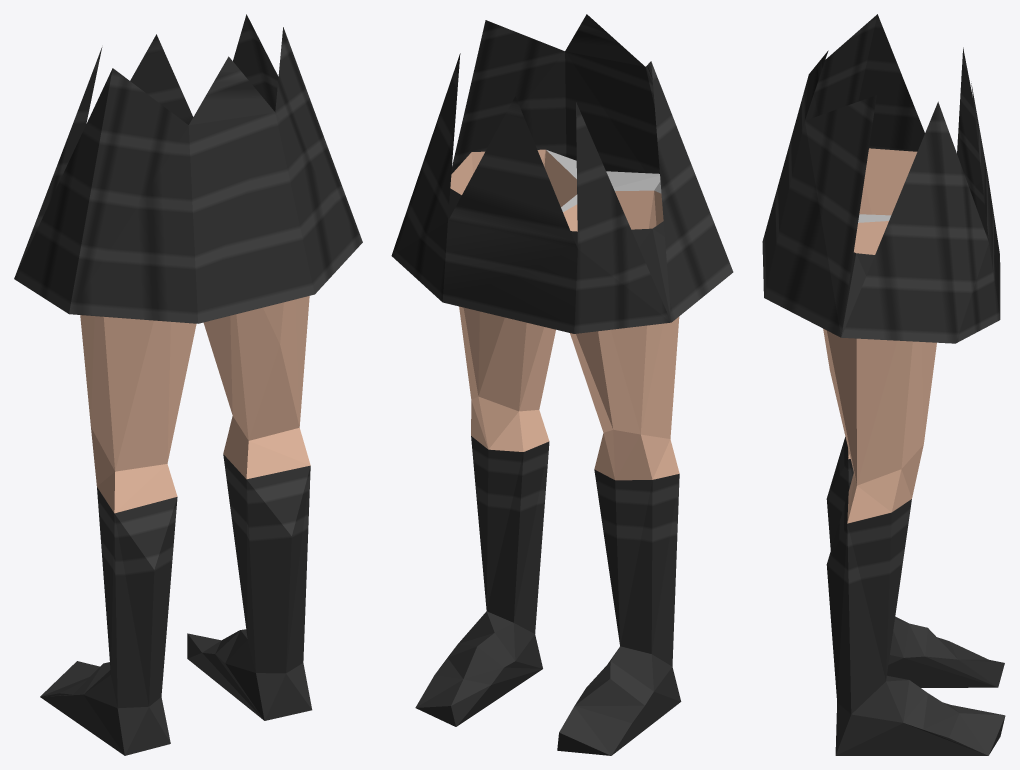
File: Legs.obj
3 renders of one model, left to right at view 1: azimuth 30°, elevation 25°; view 2: azimuth 150°, elevation 25°; view 3: azimuth 270°, elevation 25°, orthographic. The views are drawn at different scales.
Size of the model in its own units: 0.4881 by 1.07 by 0.3545.
1 material, 1 textured.
